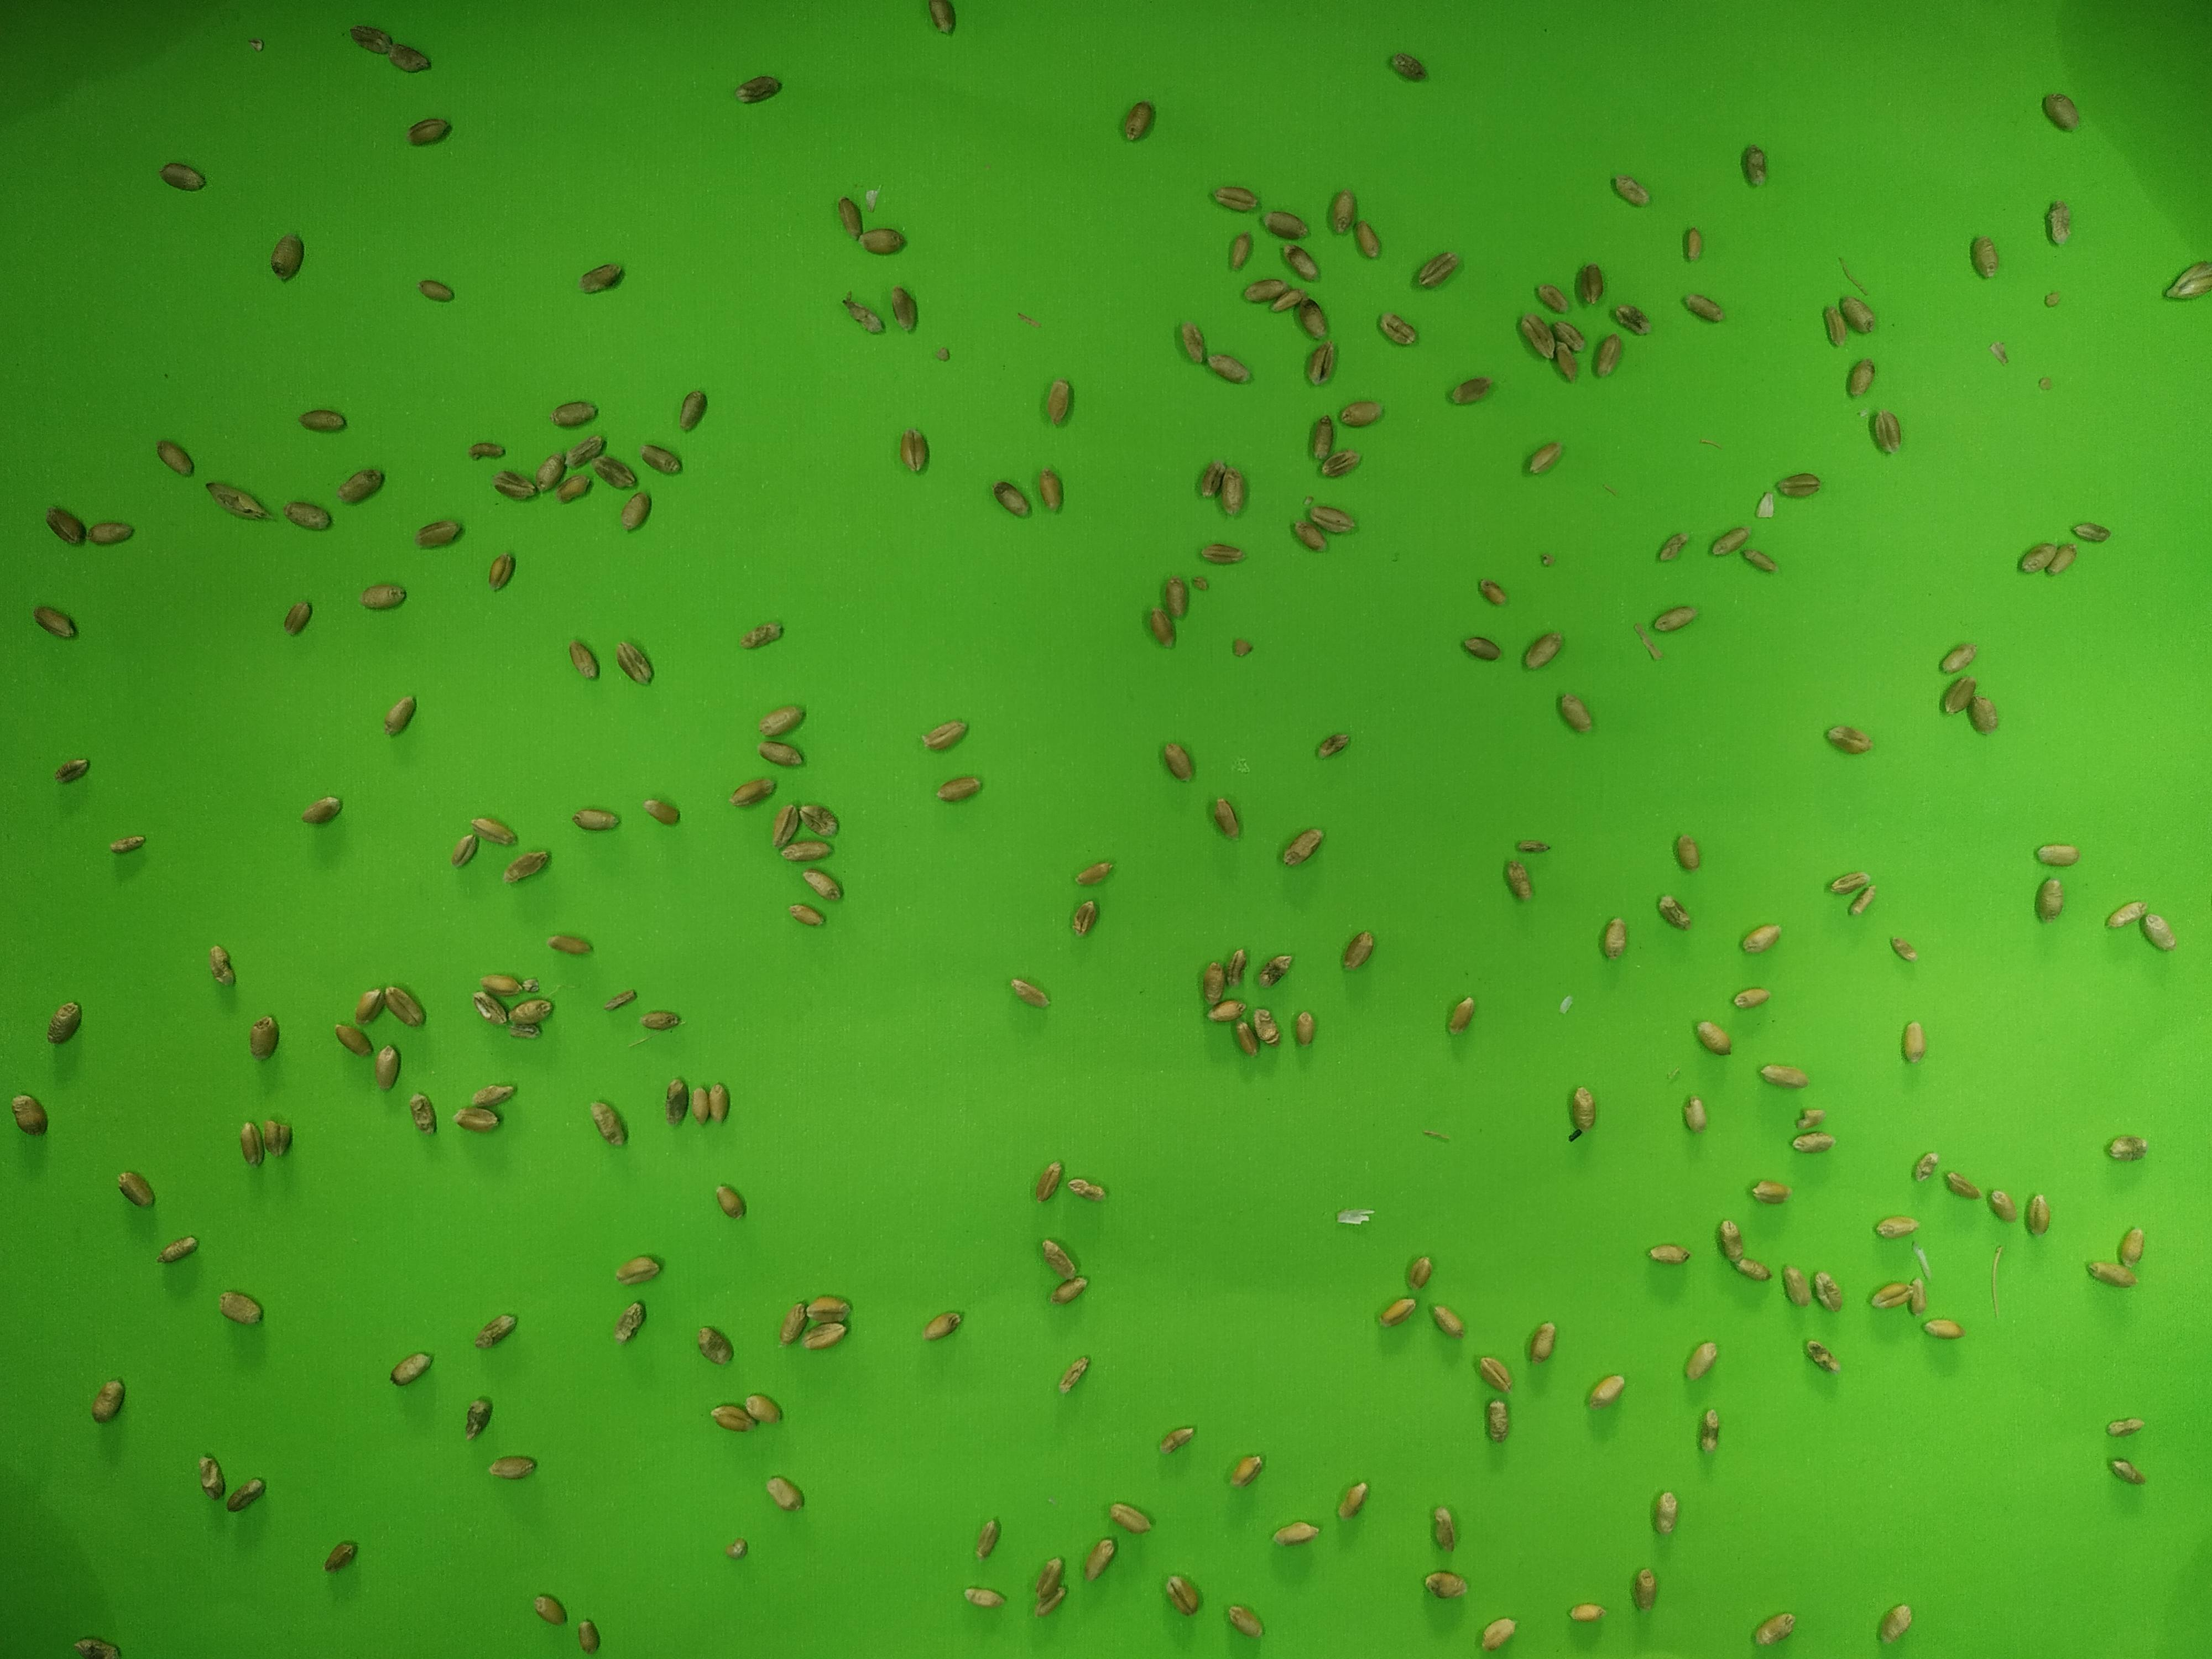bueno: (1416, 247, 1460, 291), (1281, 825, 1327, 868), (385, 980, 424, 1031), (1522, 629, 1567, 672), (9, 1091, 49, 1140), (216, 1290, 268, 1327), (588, 1098, 626, 1147), (32, 601, 79, 640), (617, 638, 655, 686), (1822, 723, 1874, 758), (270, 231, 306, 282), (1519, 312, 1557, 360), (468, 812, 517, 849), (765, 1472, 808, 1513), (1445, 373, 1495, 408), (89, 1374, 125, 1423), (2083, 1258, 2137, 1290), (451, 1104, 505, 1136), (116, 1169, 159, 1210), (158, 159, 209, 193), (45, 999, 84, 1044), (2031, 874, 2064, 925), (1939, 672, 1976, 719), (615, 1249, 663, 1285), (1522, 439, 1564, 478), (923, 716, 969, 753), (1042, 377, 1077, 426), (533, 446, 567, 495), (390, 1348, 435, 1385), (729, 773, 776, 808), (734, 70, 784, 104), (1337, 1473, 1370, 1522), (1869, 1278, 1917, 1312), (582, 259, 625, 298), (248, 1013, 279, 1066), (2141, 911, 2178, 956), (1584, 1371, 1626, 1410), (1303, 339, 1338, 387), (1556, 691, 1594, 734), (620, 486, 653, 535), (1309, 502, 1355, 538), (1897, 1016, 1930, 1066), (677, 385, 711, 433), (1265, 208, 1313, 242), (383, 692, 419, 737), (1502, 859, 1538, 904), (1325, 184, 1356, 236), (1218, 466, 1249, 518), (1708, 523, 1754, 558), (1968, 231, 2000, 282), (763, 699, 805, 737), (1752, 1610, 1797, 1646), (1123, 99, 1156, 146), (332, 1018, 373, 1057), (155, 1232, 201, 1266), (2116, 1224, 2148, 1273), (804, 867, 847, 903), (2106, 897, 2149, 933), (1162, 739, 1197, 785), (804, 1290, 852, 1323), (1685, 1337, 1719, 1384), (800, 1320, 851, 1351), (1281, 242, 1321, 281), (1473, 1355, 1514, 1393), (706, 1402, 757, 1432), (1211, 184, 1260, 215), (1652, 604, 1700, 635), (418, 515, 465, 548), (566, 638, 602, 681), (372, 1039, 400, 1092), (505, 995, 554, 1026), (236, 1119, 267, 1168), (1840, 297, 1879, 336), (357, 582, 408, 612), (154, 436, 195, 473), (283, 500, 333, 531), (1163, 1574, 1199, 1616), (856, 227, 910, 255), (1757, 1061, 1810, 1089), (1870, 409, 1901, 458), (1528, 1318, 1559, 1367), (533, 1589, 571, 1627), (1967, 692, 2000, 738), (1875, 1603, 1912, 1644), (1007, 975, 1051, 1009), (2016, 541, 2058, 576), (975, 1514, 1006, 1561), (1271, 1518, 1322, 1547), (2044, 91, 2080, 132), (554, 399, 600, 430), (2105, 1133, 2150, 1165), (1343, 927, 1376, 970), (1228, 1603, 1267, 1639), (1037, 467, 1067, 515), (573, 804, 621, 834), (835, 194, 865, 241), (1377, 309, 1417, 345), (898, 427, 929, 472), (1035, 1552, 1066, 1597), (920, 1308, 963, 1341), (1109, 1501, 1152, 1533), (1481, 1614, 1521, 1648), (745, 1391, 786, 1426), (714, 1178, 748, 1220), (1681, 292, 1726, 322), (1035, 1156, 1066, 1200), (1549, 316, 1586, 353), (1611, 173, 1650, 210), (1084, 1537, 1117, 1579), (409, 114, 454, 145), (1458, 634, 1504, 664), (2023, 1191, 2054, 1235), (1206, 354, 1253, 383), (1146, 605, 1177, 648), (489, 548, 519, 593), (1569, 1086, 1598, 1133), (487, 1453, 538, 1479), (555, 473, 594, 507), (354, 984, 388, 1024), (300, 795, 343, 826), (778, 839, 835, 863), (1071, 897, 1102, 940), (1290, 518, 1326, 554), (1694, 1020, 1731, 1056), (940, 774, 985, 803), (1848, 354, 1876, 401), (1208, 794, 1240, 836), (1669, 829, 1700, 871), (325, 1535, 359, 1574), (295, 409, 348, 434), (1780, 1262, 1809, 1308), (1678, 1092, 1710, 1133), (1253, 1006, 1284, 1048), (54, 752, 92, 785), (1180, 321, 1208, 366), (1771, 472, 1819, 499), (1338, 399, 1385, 426), (1430, 1505, 1458, 1552), (1422, 1570, 1469, 1598), (1300, 295, 1329, 339), (1872, 1213, 1922, 1239), (2105, 1455, 2146, 1487), (1449, 993, 1479, 1036), (282, 596, 313, 638), (87, 519, 135, 545), (1655, 1487, 1681, 1535), (1631, 1565, 1658, 1612), (1741, 923, 1783, 953), (1202, 952, 1224, 1009), (1747, 1177, 1791, 1206), (1161, 575, 1190, 618), (1939, 1170, 1983, 1198), (1229, 1454, 1266, 1488), (1600, 915, 1629, 958), (1550, 346, 1582, 384), (757, 740, 802, 767), (1378, 1296, 1413, 1331), (478, 972, 527, 997), (2033, 842, 2081, 867), (639, 797, 681, 826), (639, 1006, 685, 1032), (1225, 229, 1253, 273), (1074, 858, 1115, 886), (1533, 280, 1570, 313), (2045, 541, 2078, 578), (1405, 1251, 1434, 1291), (963, 1584, 1010, 1609), (1240, 279, 1286, 304), (771, 804, 799, 846), (1430, 1305, 1465, 1337), (1986, 1187, 2018, 1223), (1939, 643, 1977, 673), (1052, 1274, 1090, 1304), (450, 833, 481, 869), (1225, 945, 1251, 988), (548, 933, 593, 958), (1823, 304, 1848, 348), (1647, 1241, 1691, 1266), (1829, 868, 1871, 894), (1232, 1020, 1260, 1057), (1270, 287, 1311, 313), (1161, 1423, 1195, 1454), (1921, 1317, 1964, 1342), (692, 1079, 713, 1130), (1731, 985, 1773, 1010), (789, 903, 828, 930), (1886, 933, 1918, 964), (416, 279, 455, 305), (1906, 1275, 1929, 1319), (109, 831, 146, 859), (575, 1619, 602, 1656), (707, 1082, 729, 1128), (1790, 1133, 1836, 1154), (1204, 997, 1246, 1020), (2069, 521, 2111, 544), (1846, 884, 1875, 916), (1356, 221, 1382, 257), (1740, 546, 1776, 571), (1293, 1009, 1317, 1047), (2106, 1417, 2145, 1440), (1681, 224, 1703, 263), (1567, 1603, 1606, 1624), (1036, 1587, 1065, 1615)
danado: (336, 465, 387, 505), (839, 293, 886, 335), (2163, 259, 2208, 301), (1036, 1238, 1077, 1282), (506, 847, 552, 886), (594, 451, 641, 489), (693, 1323, 734, 1365), (990, 479, 1031, 523), (564, 432, 609, 471), (794, 800, 839, 838), (46, 504, 85, 548), (382, 41, 434, 74), (1715, 1213, 1747, 1264), (197, 1449, 228, 1501), (491, 468, 539, 502), (891, 283, 922, 336), (1805, 1335, 1844, 1378), (226, 1472, 266, 1511), (1653, 886, 1693, 927), (472, 990, 514, 1029), (1742, 139, 1771, 193), (640, 441, 685, 475), (348, 23, 395, 56), (1609, 301, 1652, 337), (1057, 1351, 1090, 1397), (739, 620, 787, 652), (615, 1298, 648, 1344), (1811, 1268, 1843, 1315), (778, 1300, 809, 1348), (1321, 445, 1362, 480), (207, 943, 239, 988), (1484, 1398, 1514, 1447), (462, 1394, 492, 1443), (478, 1311, 517, 1348), (406, 1091, 439, 1134), (664, 1074, 690, 1126), (1693, 1406, 1721, 1454), (1258, 951, 1295, 988), (1196, 458, 1227, 501), (1387, 51, 1428, 84), (1728, 1258, 1776, 1285), (1476, 574, 1510, 609), (1065, 1174, 1107, 1202), (1578, 260, 1604, 304), (1658, 526, 1688, 564), (1199, 542, 1245, 566), (1319, 729, 1353, 757), (469, 438, 506, 463), (1912, 1150, 1939, 1182), (505, 1022, 544, 1037)
impureza: (205, 479, 274, 524), (2044, 196, 2074, 249), (1839, 253, 1870, 299), (1987, 1244, 2006, 1322), (1630, 620, 1664, 661), (1334, 1205, 1377, 1229), (1912, 1237, 1933, 1282), (602, 988, 640, 1013), (1013, 309, 1045, 333), (1986, 338, 2011, 367), (1752, 493, 1775, 520), (1514, 838, 1551, 854), (517, 973, 544, 993), (1232, 637, 1256, 658), (2041, 289, 2064, 311), (1699, 434, 1724, 452), (1601, 479, 1621, 501), (1190, 571, 1210, 592), (933, 346, 952, 367), (1536, 548, 1554, 570), (2036, 375, 2056, 394), (1563, 1126, 1584, 1141)
partido: (263, 1115, 299, 1157), (469, 1081, 515, 1112), (1798, 1104, 1824, 1128), (728, 1534, 750, 1560)
